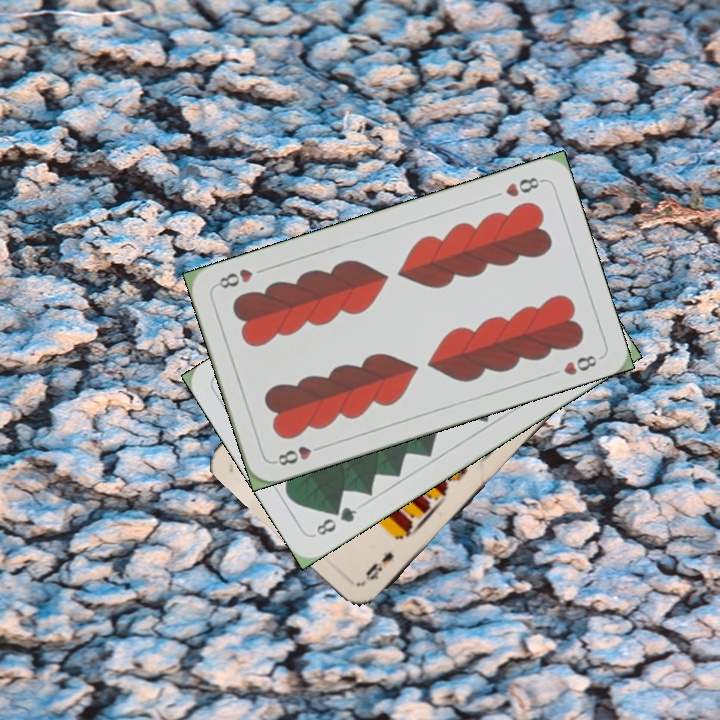E9: (361, 548, 396, 583)
G8: (310, 502, 360, 539)
H8: (270, 440, 327, 469), (501, 173, 546, 200)
